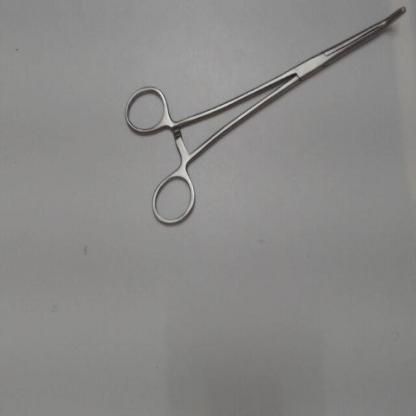Lahey Forceps: (122, 1, 412, 236)
